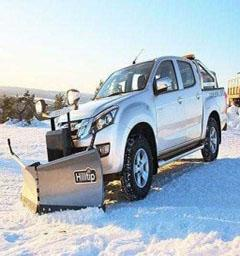car: (31, 41, 240, 209)
